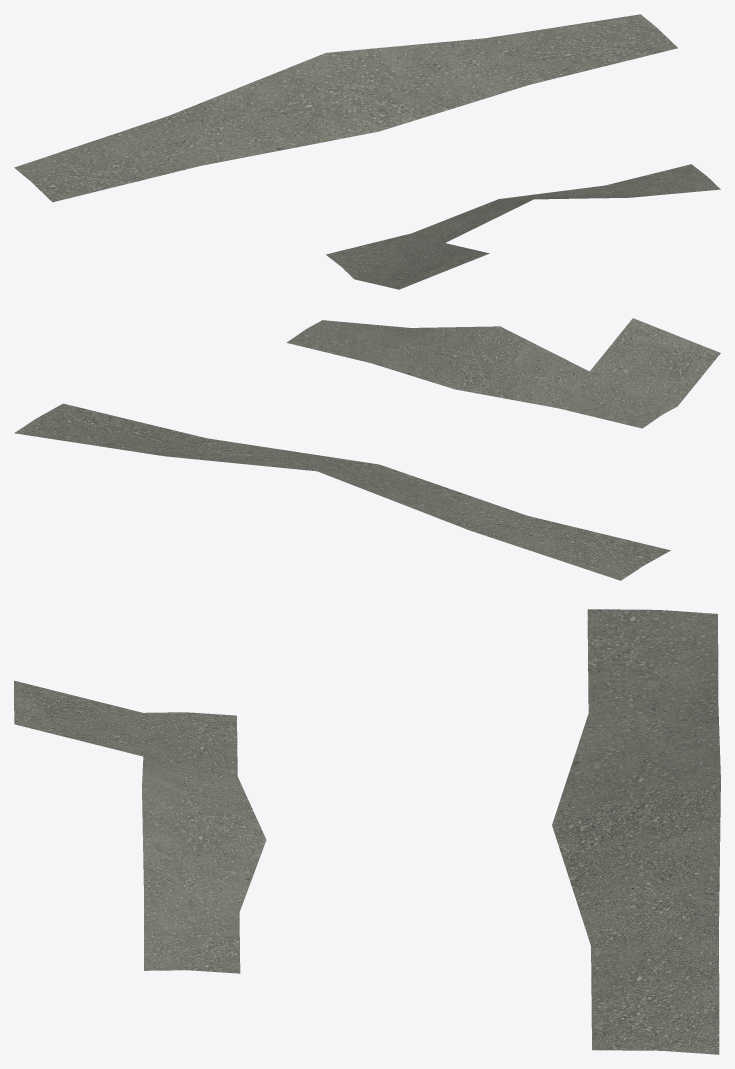
3 renders of one model, top to bottom at view 1: azimuth 30°, elevation 25°; view 2: azimuth 150°, elevation 25°; view 3: azimuth 270°, elevation 25°, orthographic. The views are drawn at different scales.
Parts seen in each view (by area): view 1: SM_HK_03_08; view 2: SM_HK_03_08; view 3: SM_HK_03_08.
Part boxes in pixels (bbox=[...]): SM_HK_03_08: bbox=[14, 14, 720, 289]; SM_HK_03_08: bbox=[14, 318, 720, 580]; SM_HK_03_08: bbox=[14, 609, 720, 1054].
Bounding box in the file's own units: 8609 × 489 × 5772.
